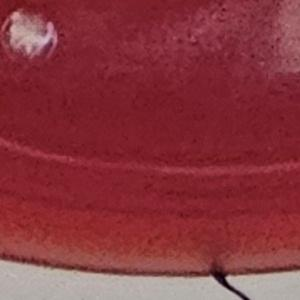colony: (0, 6, 62, 74)
